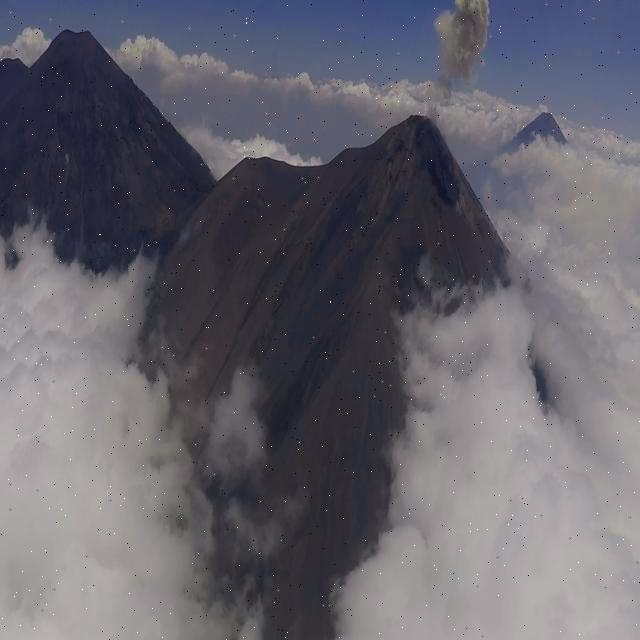Plume: (433, 1, 491, 88)
Summit: (322, 111, 486, 210)
